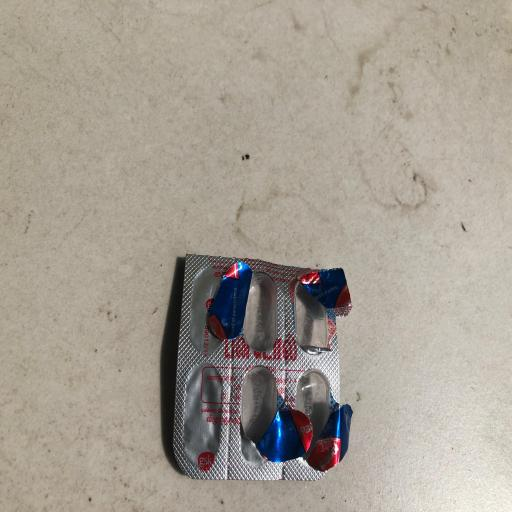waste: (164, 235, 370, 488)
